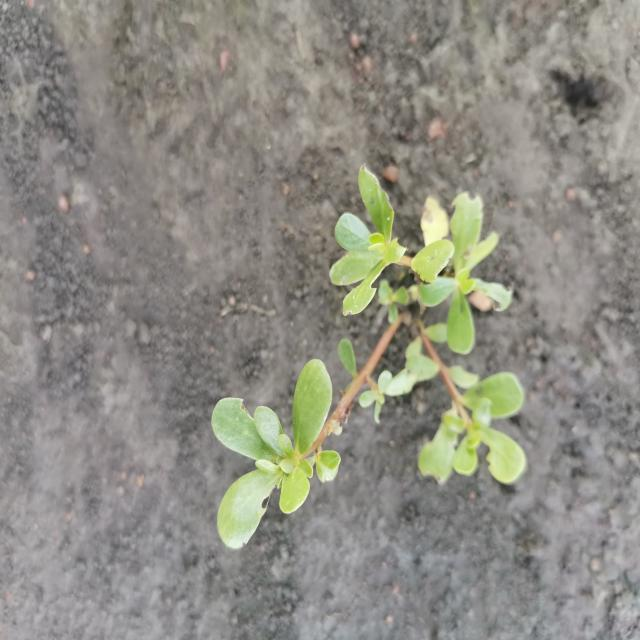Purslane: (210, 159, 530, 552)
